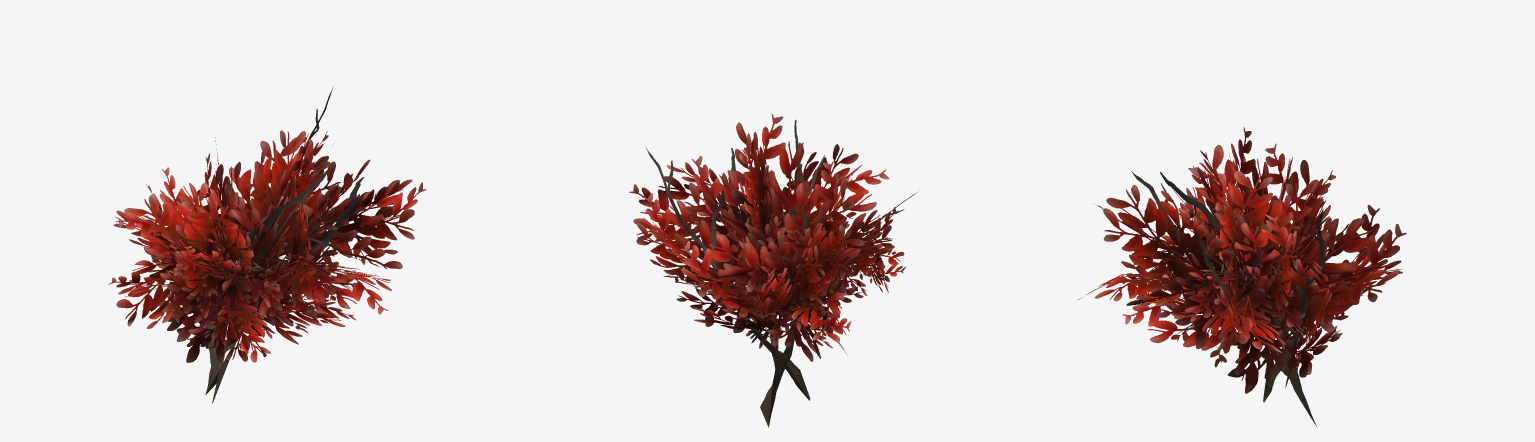
Rendered from TwistedJungle_Plant01.FBX.
3 renders of one model, left to right at view 1: azimuth 30°, elevation 25°; view 2: azimuth 150°, elevation 25°; view 3: azimuth 270°, elevation 25°, orthographic. The views are drawn at different scales.
Parts seen in each view (by area): view 1: TwistedJungle_Plant01; view 2: TwistedJungle_Plant01; view 3: TwistedJungle_Plant01.
Boxes of the visible parts, bbox=[...] form: TwistedJungle_Plant01: bbox=[108, 87, 426, 403]; TwistedJungle_Plant01: bbox=[629, 114, 917, 427]; TwistedJungle_Plant01: bbox=[1078, 127, 1406, 426].
Bounding box in the file's own units: 290 × 232 × 275.
